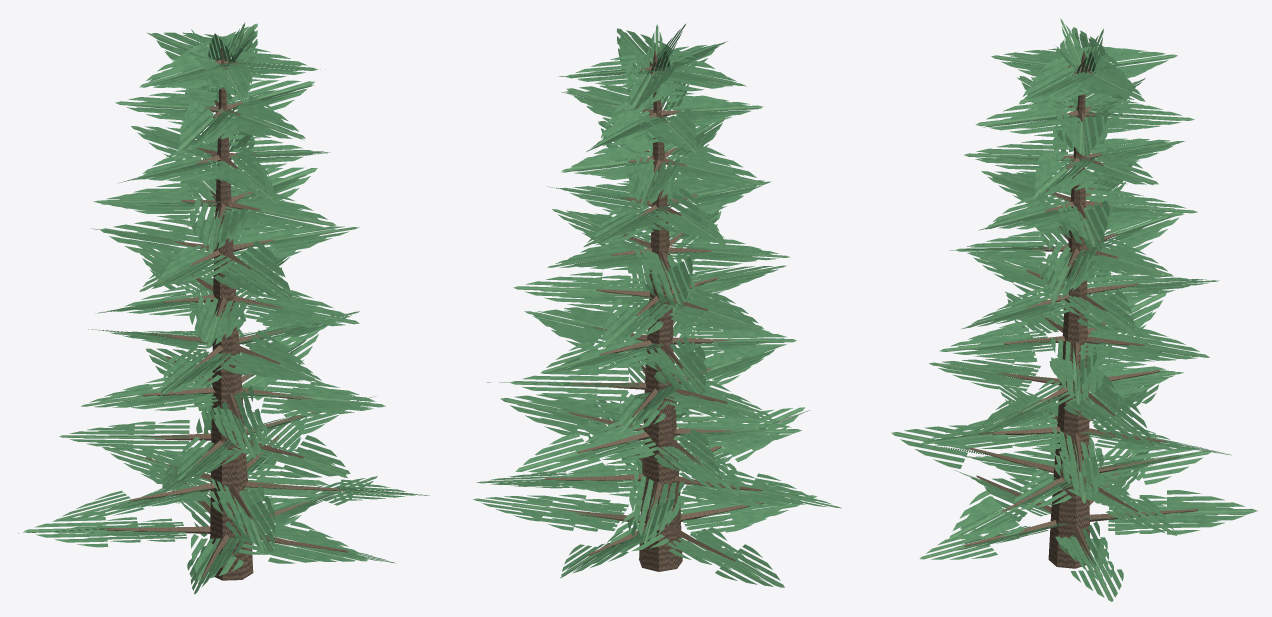
File: 전나무_01.fbx
The picture shows the model from 3 angles, left to right: view 1: azimuth 30°, elevation 25°; view 2: azimuth 150°, elevation 25°; view 3: azimuth 270°, elevation 25°; orthographic projection. The views are drawn at different scales.
Visible parts, largest first — view 1: 전나무_01; view 2: 전나무_01; view 3: 전나무_01.
Part boxes in pixels (x1,y1,x2,y2): 전나무_01: (18,22,429,594); 전나무_01: (473,24,841,587); 전나무_01: (891,18,1257,601).
Size of the model in its own units: 8527 by 12540 by 8056.
Materials: 2 (2 with a texture image).
